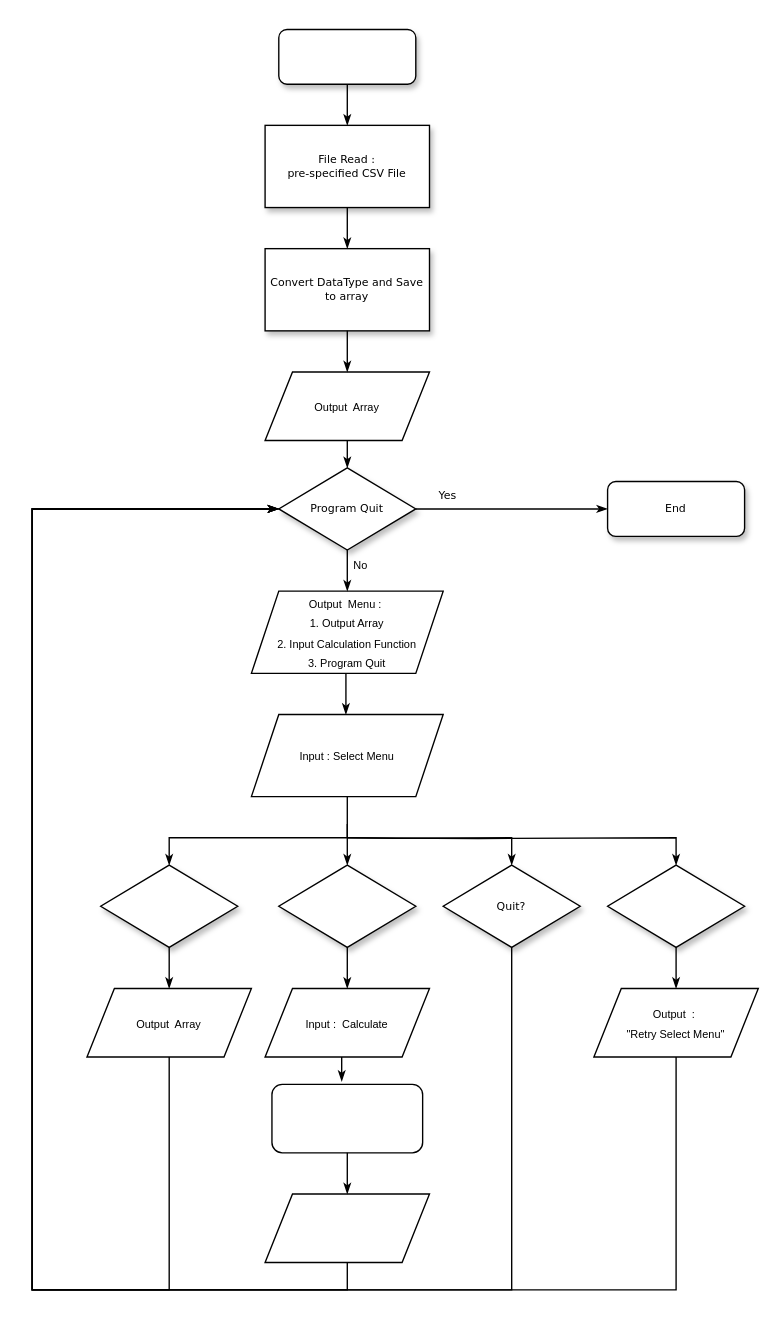
The diagram is 782 pixels wide and 1323 high, and some of its shapes have lost their labels. The shapes that lost their labels are listed below. From the top down, each one's centre as x and y in pixels, then its label:
At [348,58]: "Start".
At [170,907]: "Output Array?".
At [348,907]: "Input Calculation Function".
At [677,907]: "Unexcepted Input?".
At [347,1118]: "Process : user input Function".
At [346,1227]: "Output Result".
